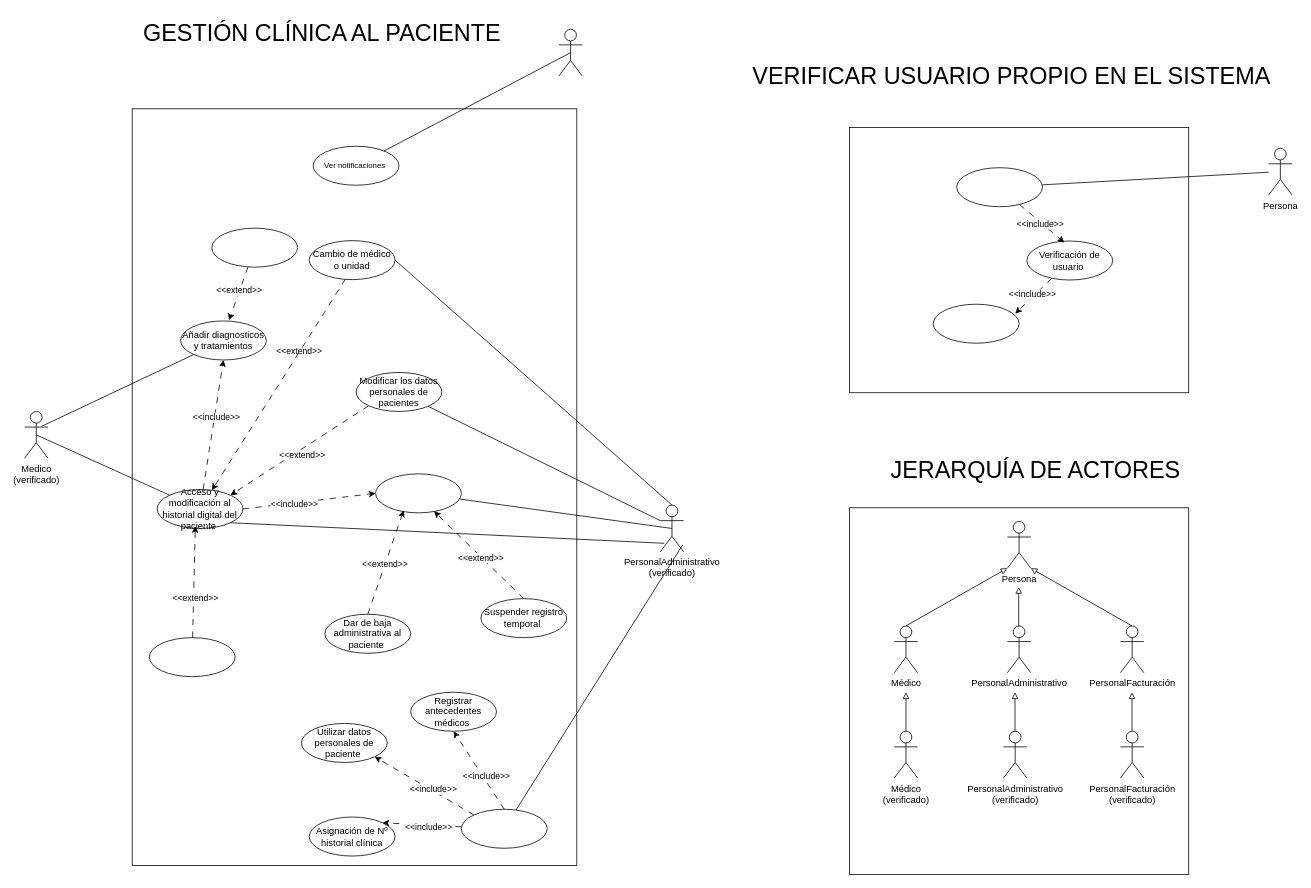
This 1311x888 diagram has some shape labels left out. The shapes that lost their labels are listed below. From the top down, each one's centre as x and y in pixels, then its label:
pixel 570 52: PersonalFacturación (verificado)
pixel 999 187: Iniciar Sesión
pixel 254 247: Notifica si se requiere procedimientos de pago
pixel 975 323: Gestion clínica al paciente
pixel 418 493: Gestiona admisión acceso del paciente
pixel 192 657: Sugerir historial automáticamente
pixel 504 828: registro de pacientes
